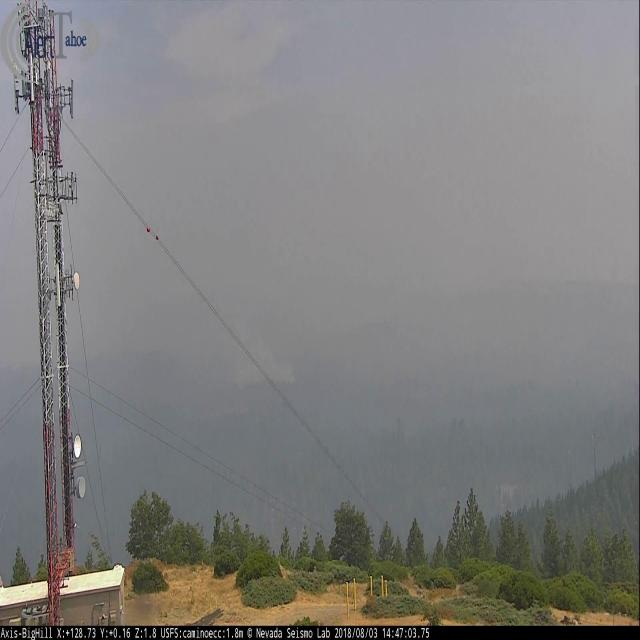smoke: (209, 319, 298, 386)
